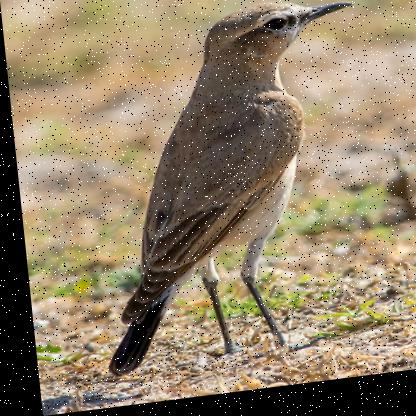Burung: (58, 3, 386, 383)
